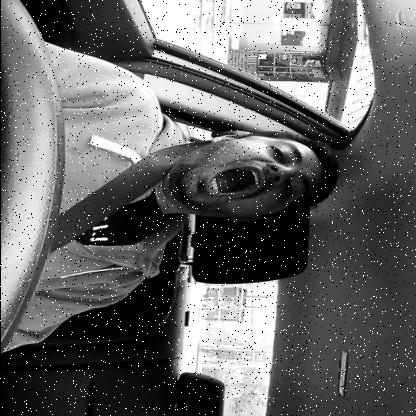seatbelt: (37, 121, 343, 284)
